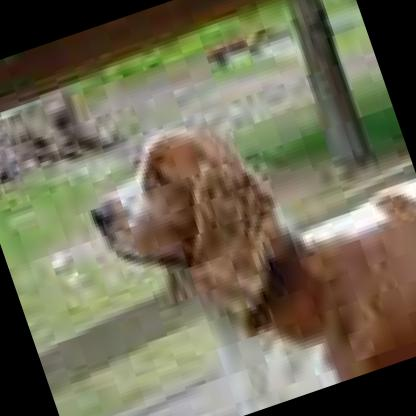Welsh_springer_spaniel: (62, 54, 416, 416)
